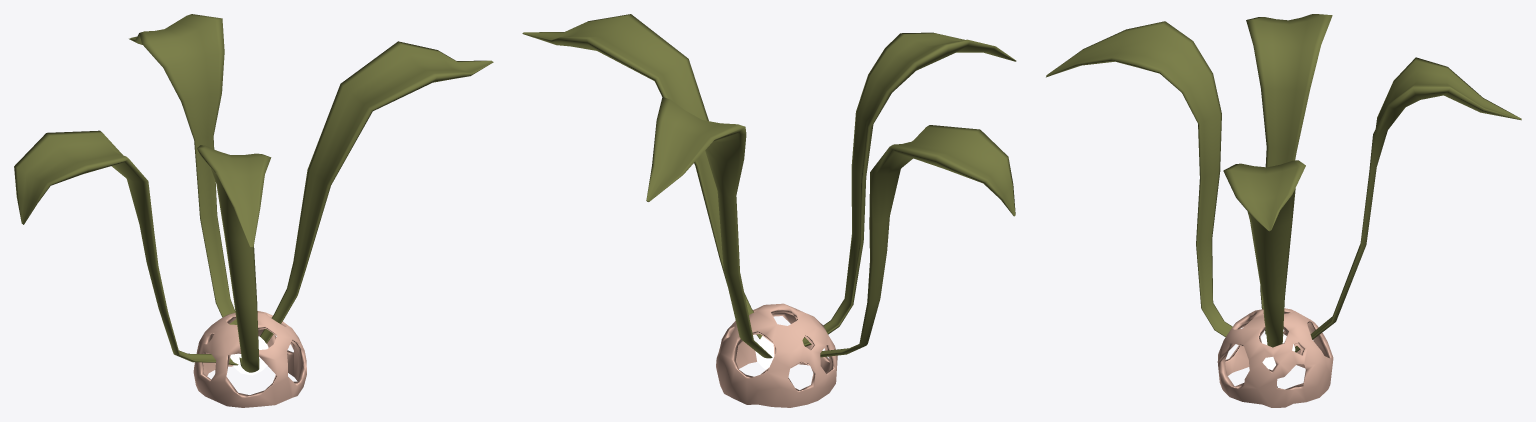
Rendered from TurtleUrchinA.fbx.
3 views of the same model, side by side, from view 1: azimuth 30°, elevation 25°; view 2: azimuth 150°, elevation 25°; view 3: azimuth 270°, elevation 25° (orthographic). The views are drawn at different scales.
Parts seen in each view (by area): view 1: AloeMesh_low, OutCage_low.001; view 2: AloeMesh_low, OutCage_low.001; view 3: AloeMesh_low, OutCage_low.001.
Boxes of the visible parts, <box> form: AloeMesh_low: <box>14,14,493,372</box>; OutCage_low.001: <box>193,311,306,407</box>; AloeMesh_low: <box>522,14,1016,358</box>; OutCage_low.001: <box>716,303,837,407</box>; AloeMesh_low: <box>1046,14,1521,352</box>; OutCage_low.001: <box>1217,308,1333,407</box>.
Size of the model in its own units: 638 by 406 by 553.
